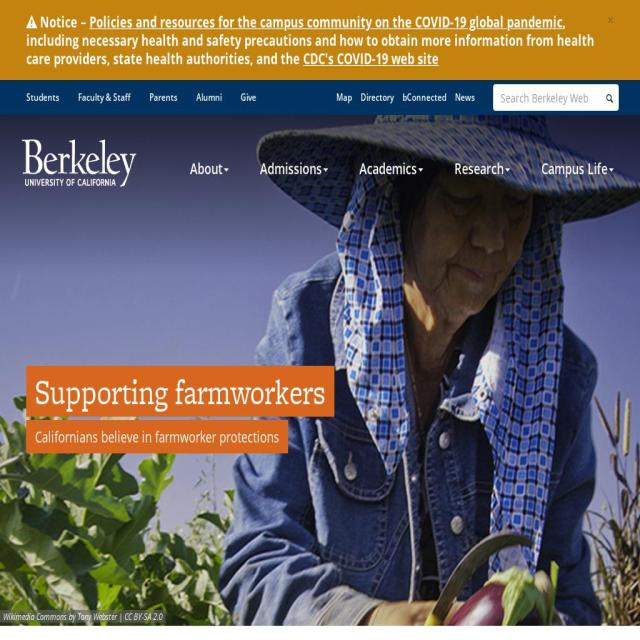button: (17, 130, 142, 197), (69, 80, 140, 118), (140, 80, 187, 118), (187, 80, 231, 118), (26, 80, 69, 118), (541, 160, 614, 182), (402, 80, 447, 115), (260, 160, 328, 182), (359, 160, 423, 182), (231, 80, 266, 118), (454, 160, 510, 182), (361, 80, 394, 115), (190, 160, 229, 182), (455, 80, 475, 115), (336, 80, 352, 115), (0, 79, 18, 89)
field: (493, 84, 619, 111)
heading: (35, 366, 326, 416), (17, 130, 142, 197)
link: (90, 12, 562, 32), (35, 420, 279, 453), (303, 48, 439, 68)
text: (27, 12, 594, 68), (0, 610, 166, 622), (542, 160, 608, 182), (260, 160, 322, 182), (359, 160, 417, 182), (454, 160, 504, 182), (40, 12, 89, 32), (190, 160, 222, 182)
